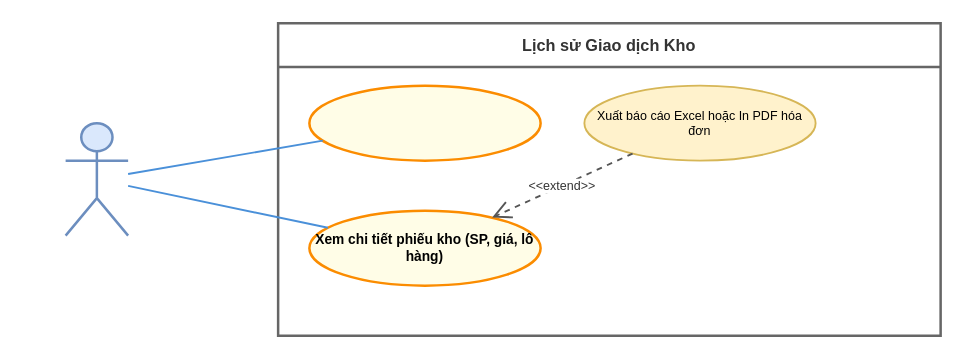
The diagram is 963 pixels wide and 358 high, and some of its shapes have lost their labels. Each missing label, with the box of its shape:
Nhân viên kho (STAFF): (64, 121, 129, 236)
Xem danh sách phiếu kho chi nhánh: (308, 84, 541, 161)
